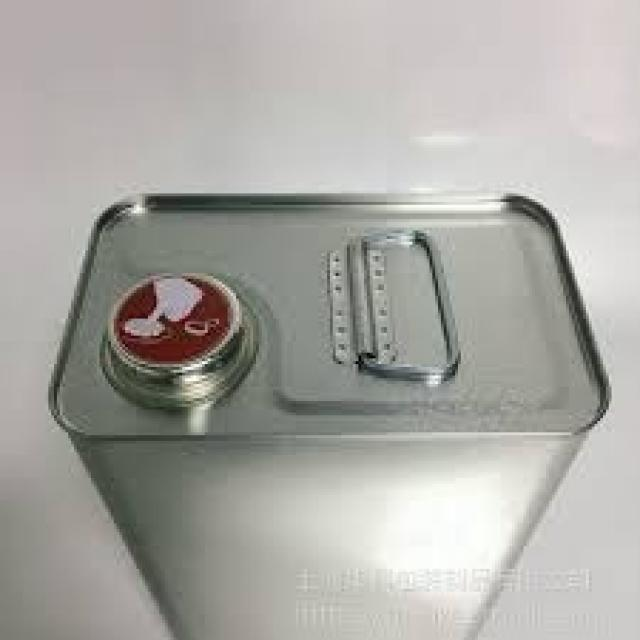recyclable: (48, 193, 610, 640)
